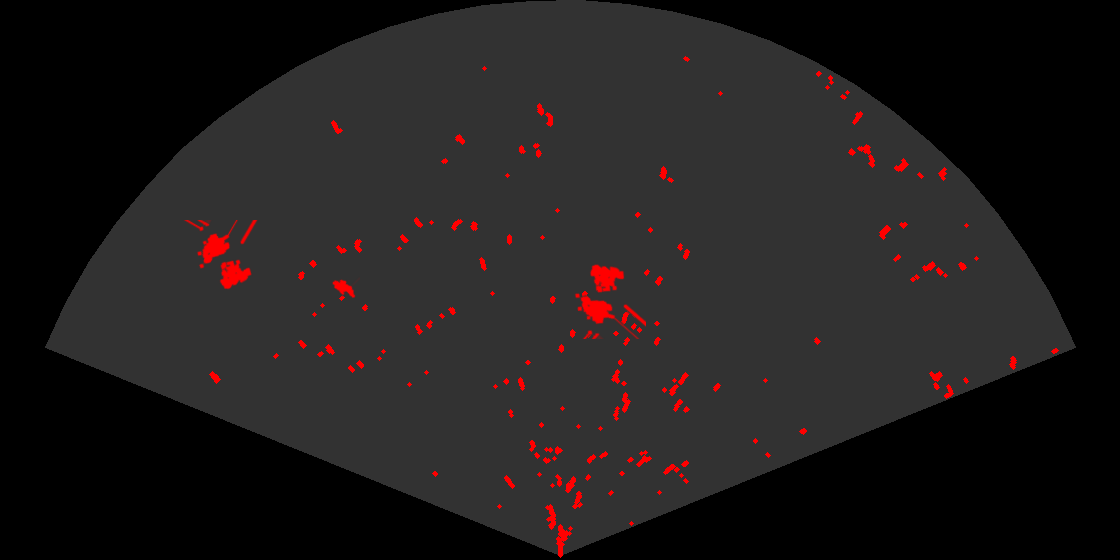AUV: (331, 276, 360, 300)
cage: (573, 263, 646, 339), (182, 220, 259, 291)
